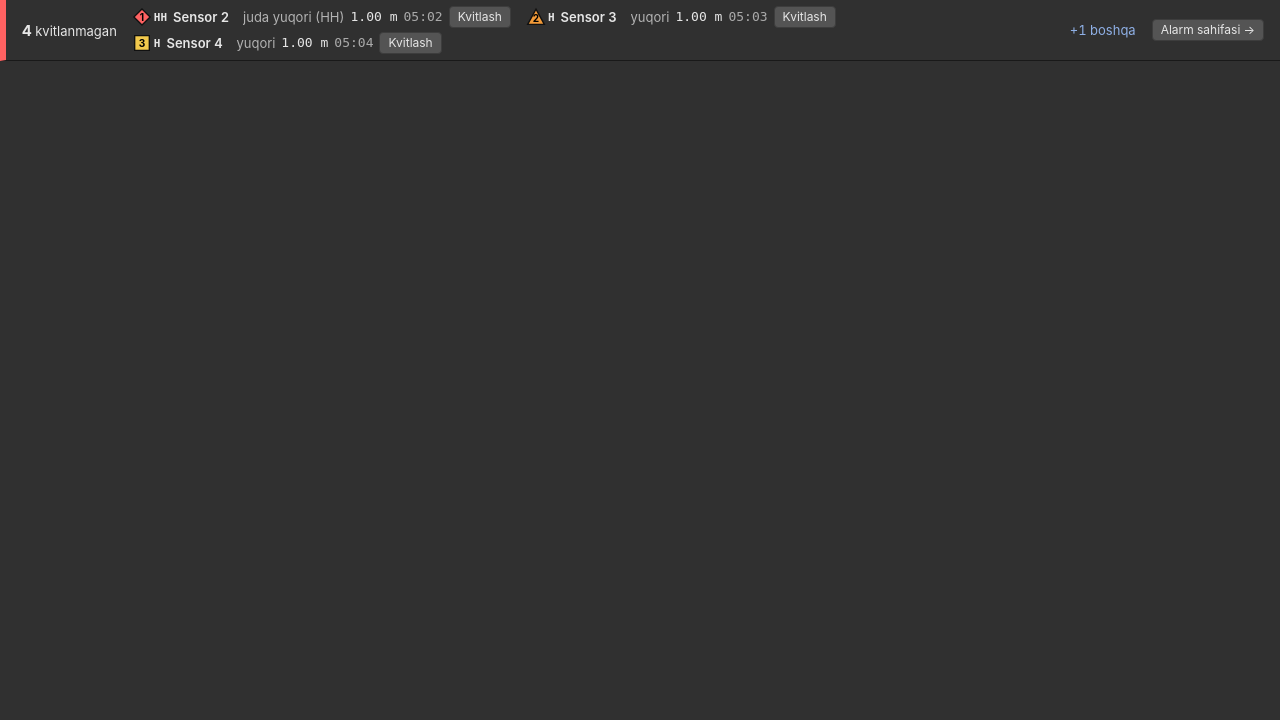
Test: alarm banneri (UX-03) › top-3 kvitlanmagan, miltillovchi belgi, soni; operator sahifa ichida izoh bilan kvitlaydi
Expected: the text with test id "alarm-banner-count" reads "4", [22,20,32,40]
Expected: the picture with class "unacked" showing "1 HH" is shown, [133,8,167,26]
Click the button with test id "alarm-banner-ack" in the row of "Sensor 2" at [480, 17], box [449,6,511,28]
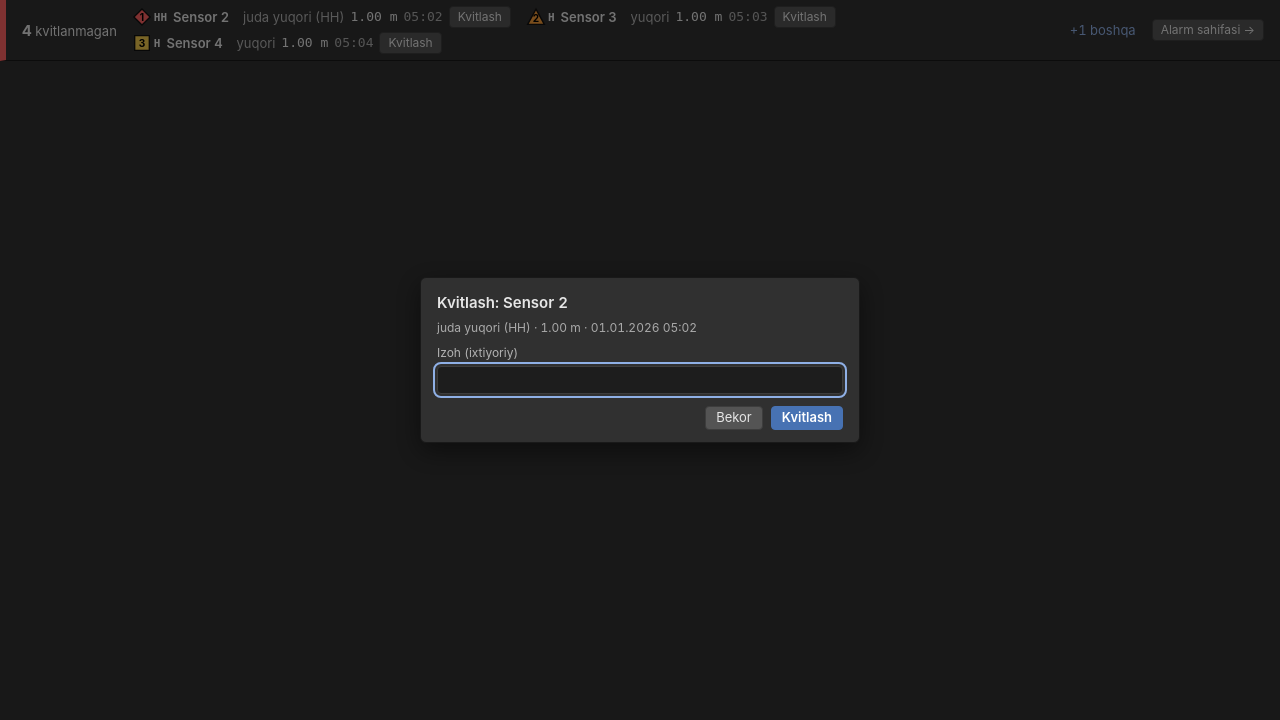
Type "tekshirildi" into the field with test id "dlg-text" at [640, 380], box [437,366,843,394]
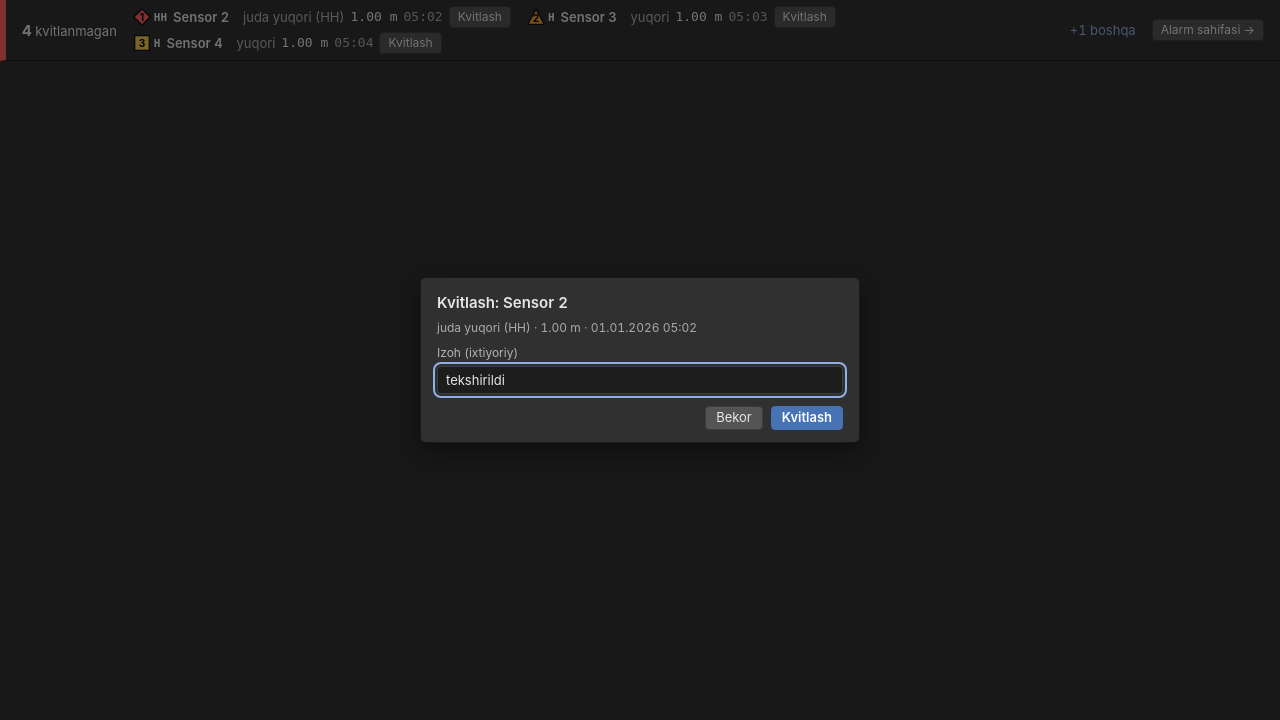
Click the button with test id "dlg-ok" at [807, 418], box [771,406,843,430]
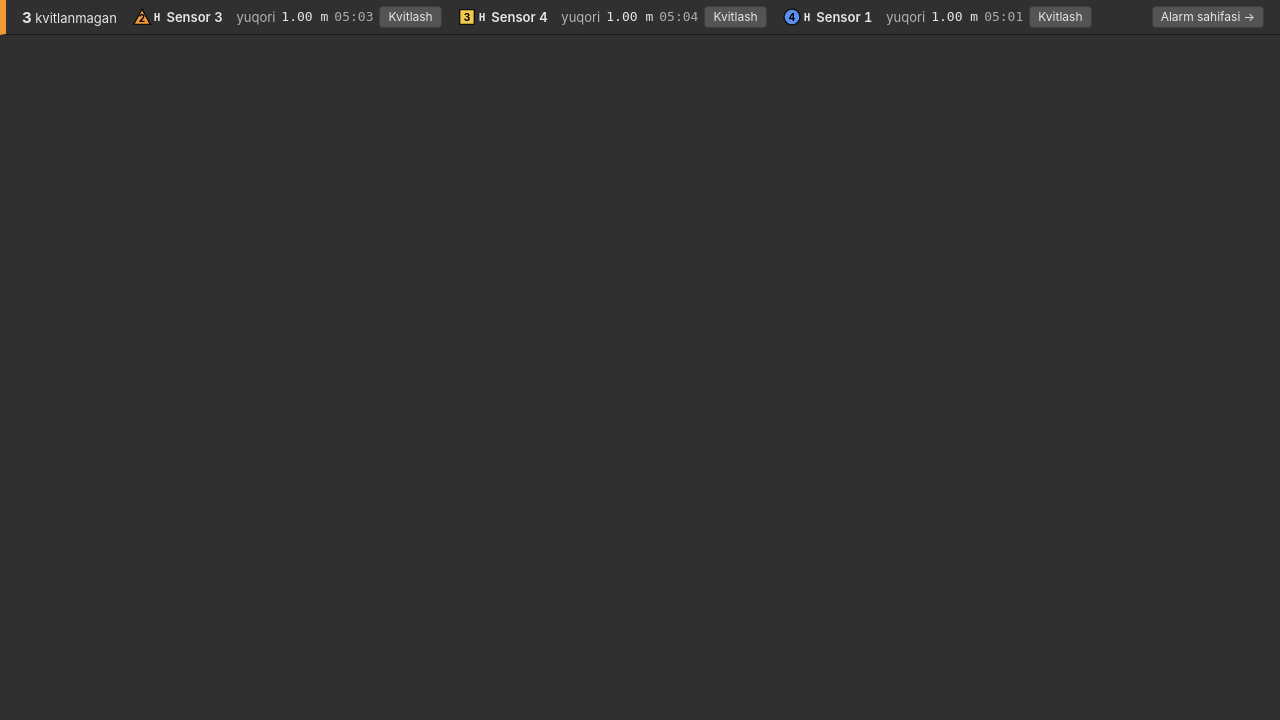
Expected: the text with test id "alarm-banner-count" reads "3", [22,8,32,26]
